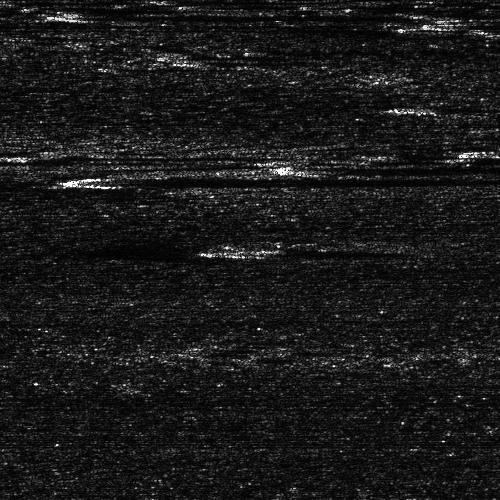object: (177, 159, 406, 176), (343, 99, 468, 112), (11, 7, 116, 22), (55, 173, 160, 184), (202, 246, 295, 257), (445, 144, 500, 157), (136, 52, 209, 61), (147, 58, 230, 65), (0, 154, 62, 159), (81, 64, 134, 69), (249, 355, 280, 360), (135, 0, 188, 2)
shadow: (64, 7, 369, 22), (108, 173, 490, 184), (292, 159, 500, 176), (249, 246, 408, 257), (406, 99, 500, 112), (25, 154, 252, 159), (173, 52, 251, 61), (189, 58, 268, 65), (0, 443, 37, 456), (264, 355, 345, 360), (108, 64, 185, 69), (161, 0, 240, 2)
